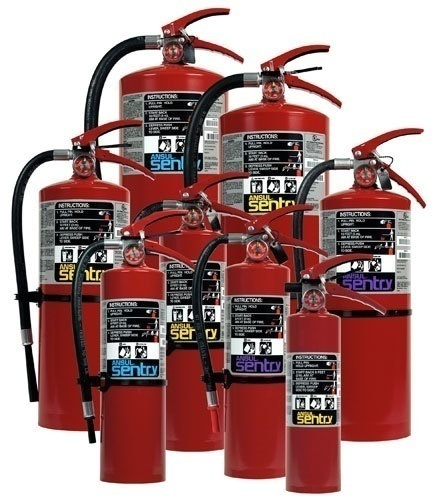fire_extinguisher: (79, 4, 244, 458), (183, 43, 343, 480), (11, 119, 157, 433), (291, 127, 427, 442)
